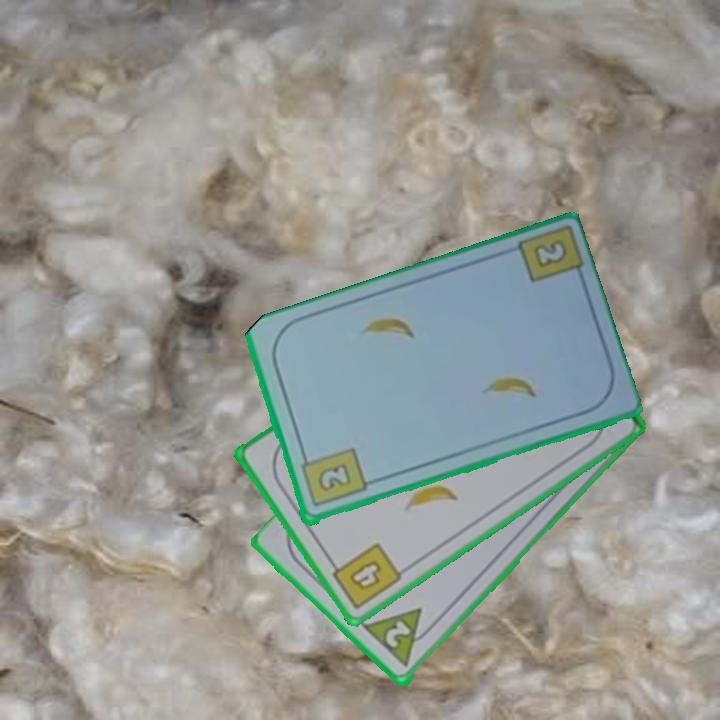2b: (297, 445, 369, 511), (533, 240, 567, 268)
2p: (361, 604, 440, 671)
4b: (325, 539, 405, 613)
